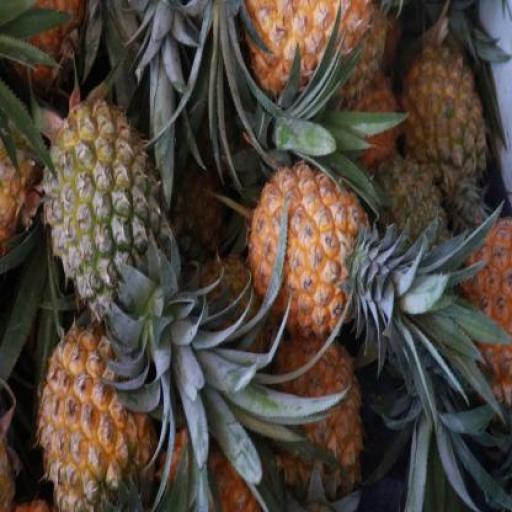------------------------------: (38, 94, 170, 316)
Pineapple - v8 v1: (246, 166, 368, 350), (34, 327, 152, 511)
